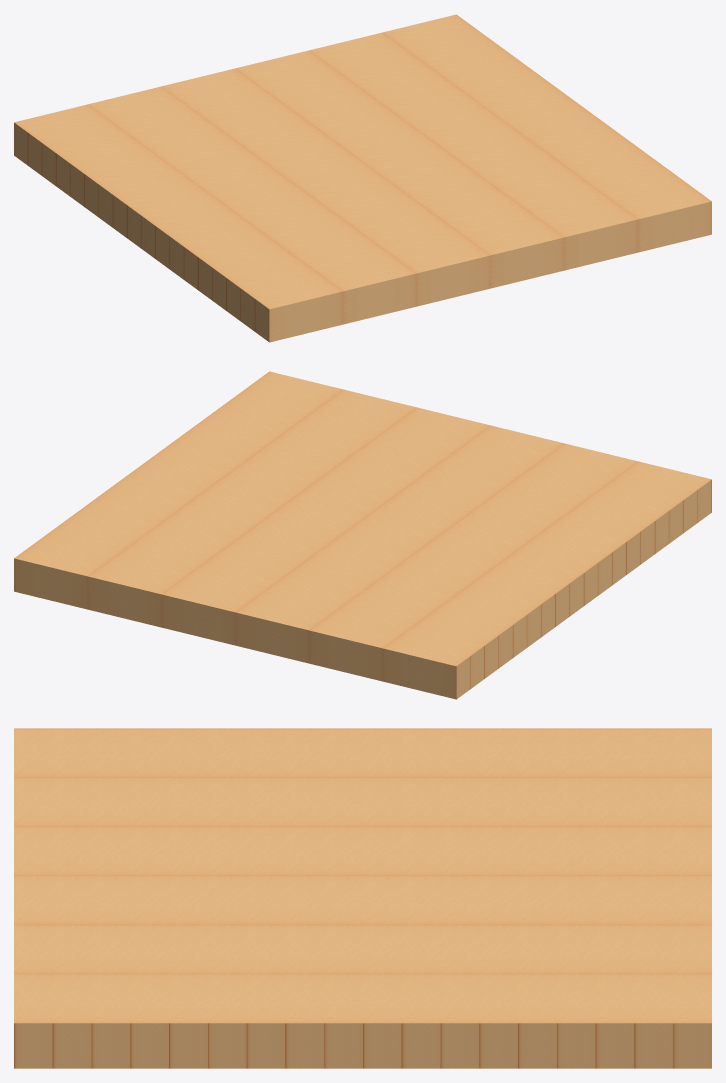
Rendered from Floor_Tile_B.fbx.
3 views of the same model, one above another, from view 1: azimuth 30°, elevation 25°; view 2: azimuth 150°, elevation 25°; view 3: azimuth 270°, elevation 25° (orthographic). The views are drawn at different scales.
Visible parts, largest first — view 1: Floor_Tile_B; view 2: Floor_Tile_B; view 3: Floor_Tile_B.
Boxes of the visible parts, x1,y1,x2,y2 form: Floor_Tile_B: [14, 14, 711, 342]; Floor_Tile_B: [14, 371, 711, 699]; Floor_Tile_B: [14, 728, 711, 1068].
Size of the model in its own units: 1 by 0.0717 by 1.
